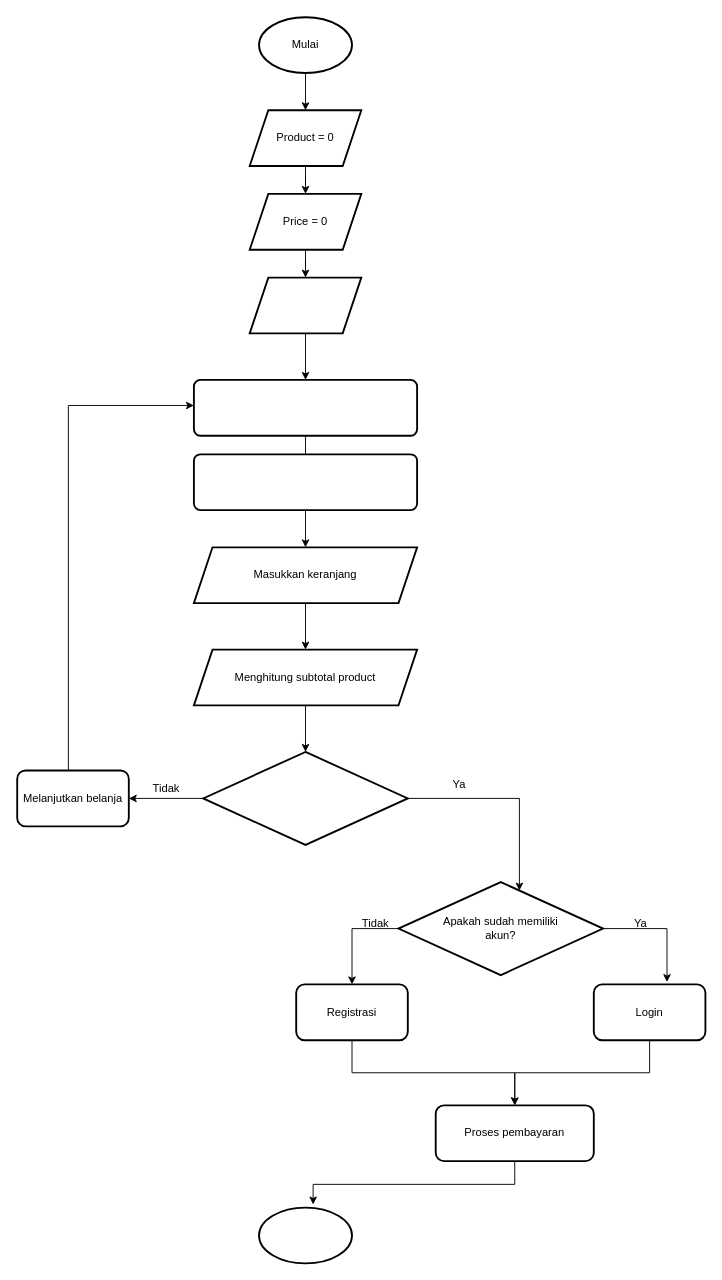
This 722x1280 diagram has some shape labels left out. The shapes that lost their labels are listed below. From the top down, each one's centre as x and y in pixels, then its label:
(305,305): TotalPrice = 0
(305,407): Cari product pada search bar
(305,482): Pilih product yang diinginkan
(305,798): Apakah ingin "Checkout" product?
(305,1235): Selesai
